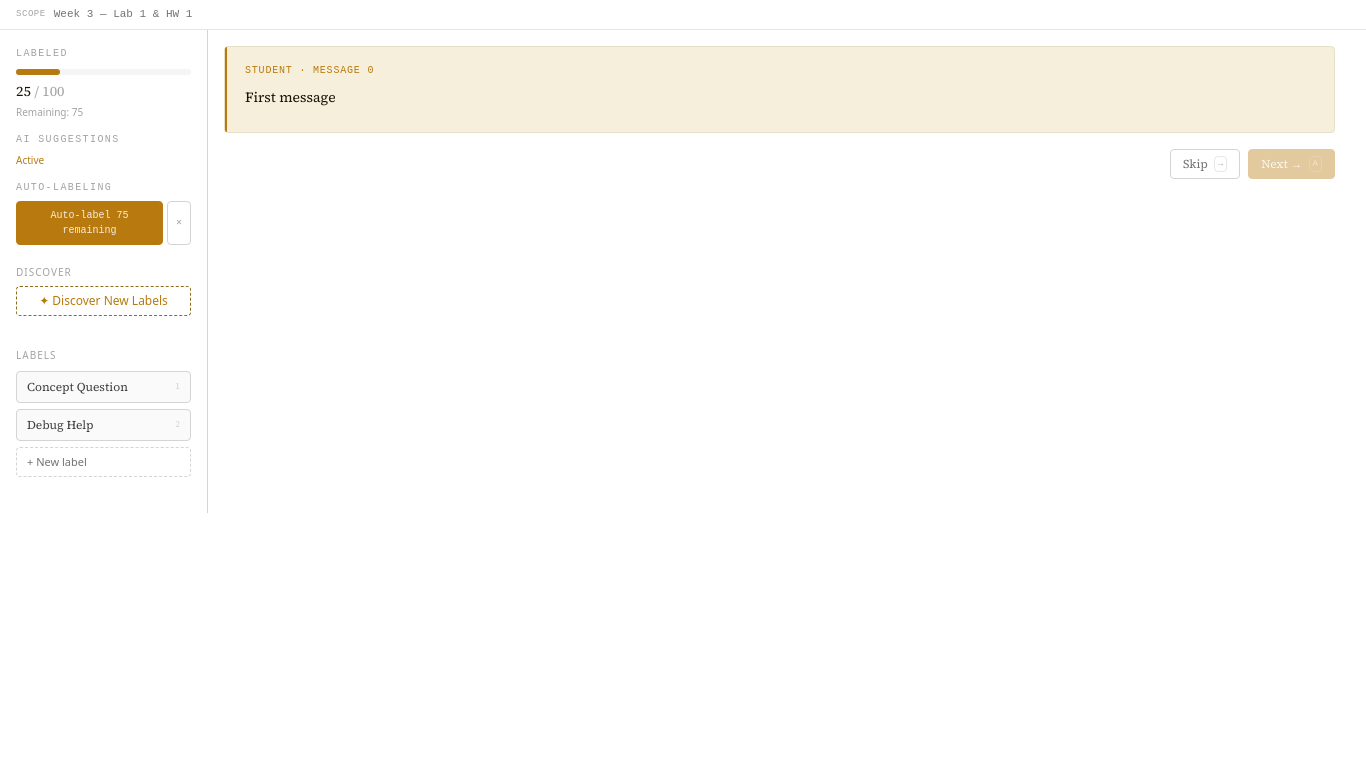
it: enters blind phase and shows the recalibration banner
The image size is (1366, 768).
Expected: the text "First message" is shown, [245,86,336,106]
Click the button "Concept Question 1": (104, 386) [16,370,191,402]
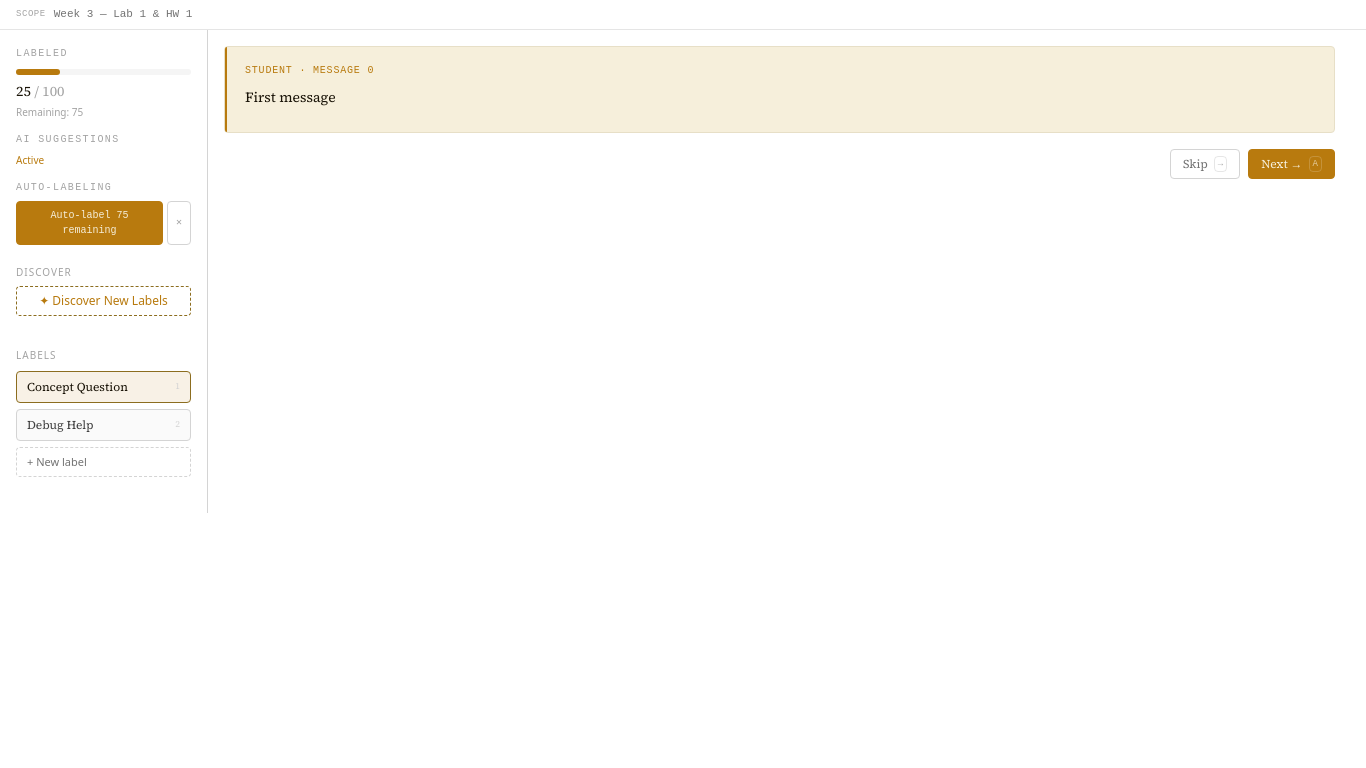
Expected: the button "Next → A" is enabled
Click the button "Next → A": (1292, 164) [1248,149,1335,179]
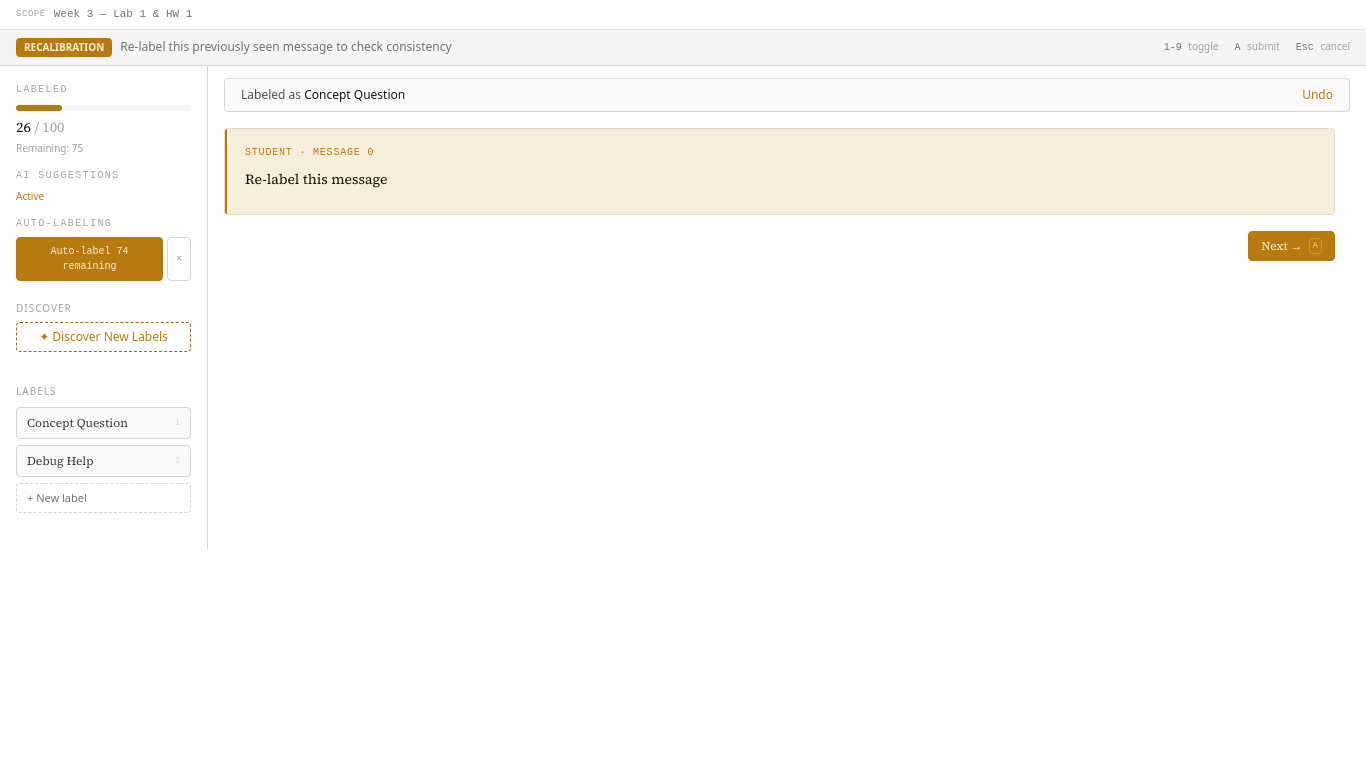
Expected: the text "RECALIBRATION" is shown, [16,38,112,56]
Expected: the text "Re-label this message" is shown, [245,168,388,188]
